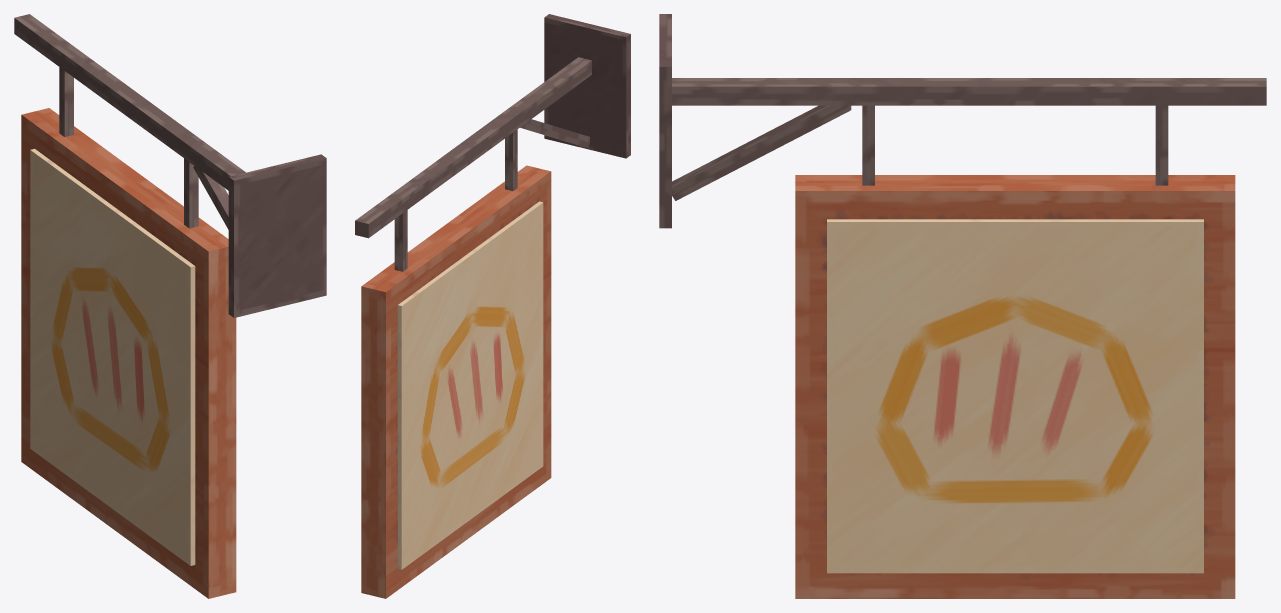
The model's file is sign_bread_low.fbx.
The picture shows the model from 3 angles, left to right: view 1: azimuth 30°, elevation 25°; view 2: azimuth 150°, elevation 25°; view 3: azimuth 270°, elevation 25°; orthographic projection. The views are drawn at different scales.
Visible parts, largest first — view 1: sign_bread; view 2: sign_bread; view 3: sign_bread.
Boxes of the visible parts, x1,y1,x2,y2 form: sign_bread: (14,14,326,598); sign_bread: (355,14,630,598); sign_bread: (659,14,1266,598).
Size of the model in its own units: 0.6 by 2.9 by 2.9.
Materials: 1 (1 with a texture image).
